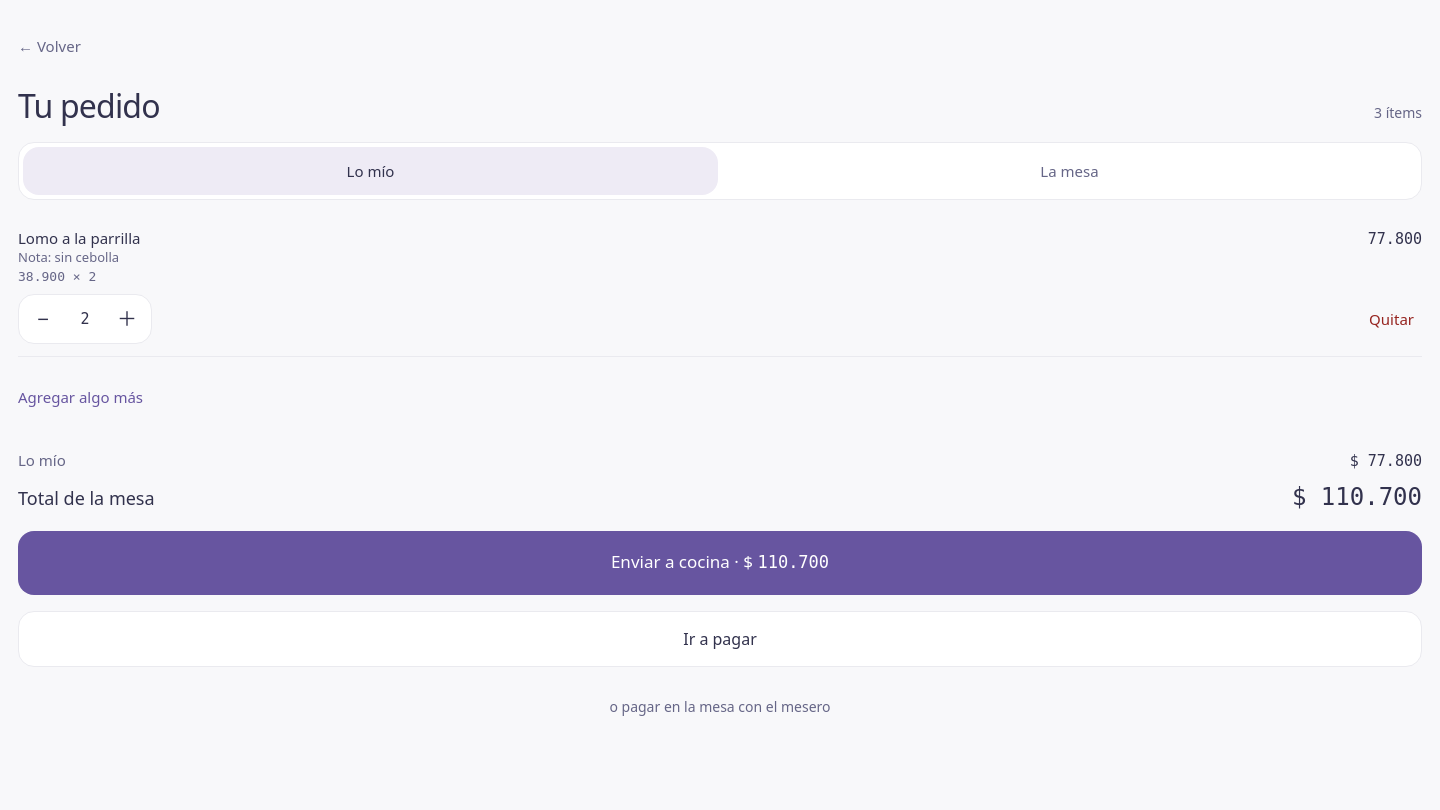
Test: renders my lines editable, the others read-only under La mesa, and both subtotals
Expected: the text "Burrata italiana" is not shown
Click the tab "La mesa".
click(1070, 171)  # box [722,147,1417,195]
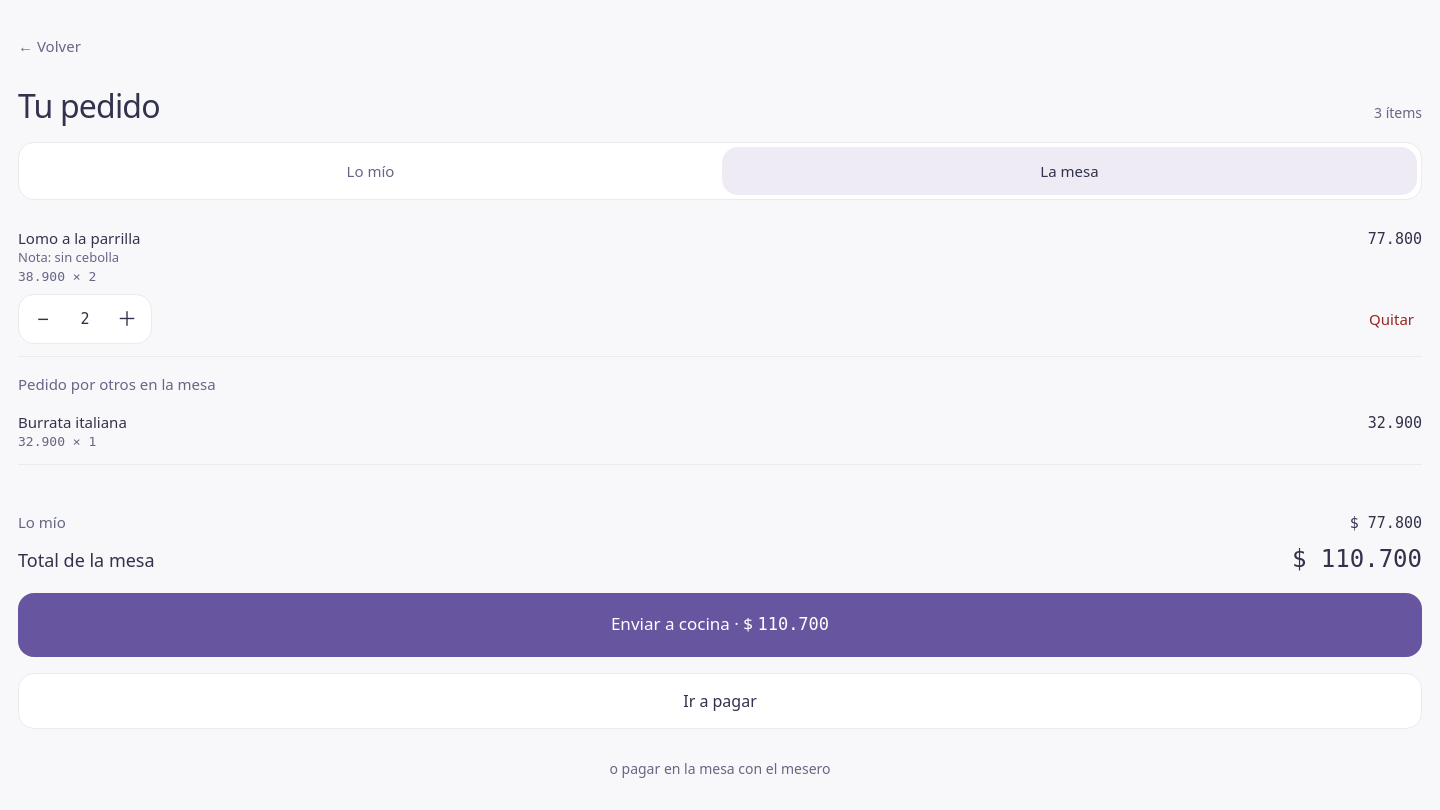
Expected: the number of buttons named "Más" is 1, [103,295,151,343]
Now the text "Pedido por otros en la mesa" shows "Burrata italiana", box [18,412,127,432]
